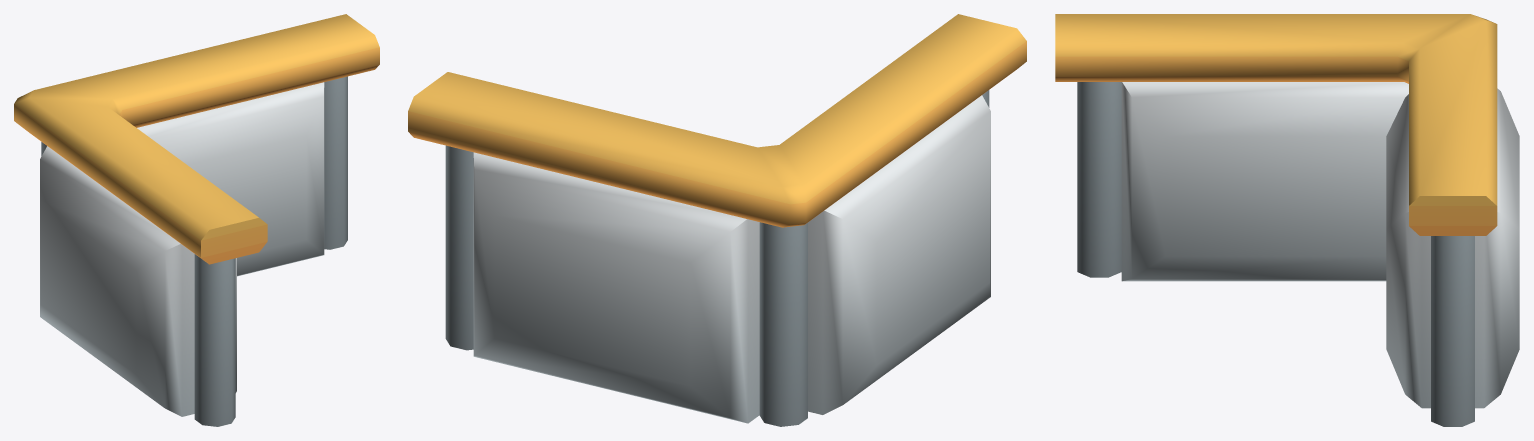
File: railing_corner_padded_yellow.glb
3 views of the same model, side by side, from view 1: azimuth 30°, elevation 25°; view 2: azimuth 150°, elevation 25°; view 3: azimuth 270°, elevation 25° (orthographic). The views are drawn at different scales.
Visible parts, largest first — view 1: railing_corner_padded_yellow; view 2: railing_corner_padded_yellow; view 3: railing_corner_padded_yellow.
Boxes of the visible parts, x1=… form: railing_corner_padded_yellow: x1=14, y1=14, x2=379, y2=426; railing_corner_padded_yellow: x1=408, y1=14, x2=1026, y2=426; railing_corner_padded_yellow: x1=1055, y1=14, x2=1519, y2=426.
Bounding box in the file's own units: 2.1 × 1.2 × 2.1.
1 material, 1 textured.
